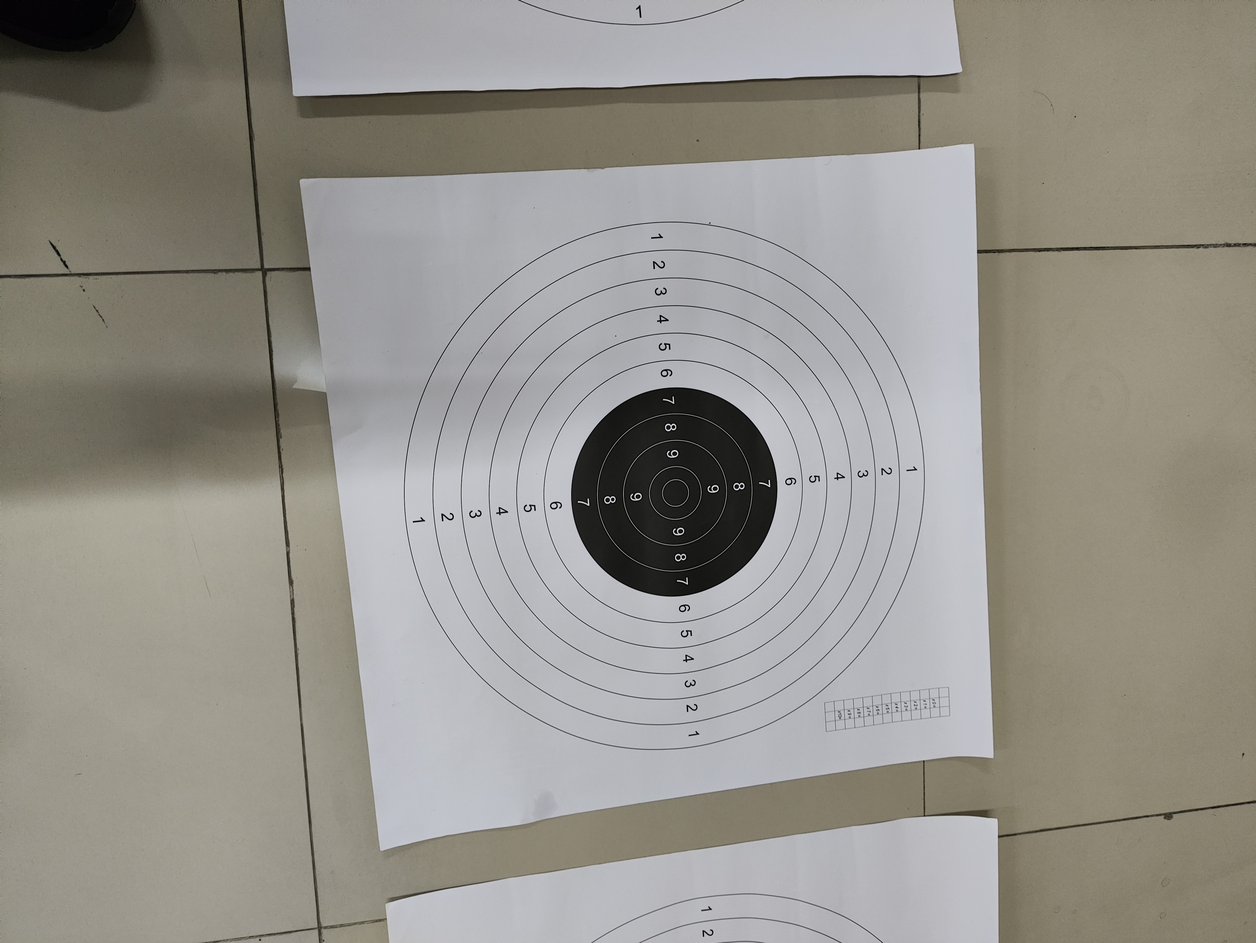target: (388, 204, 953, 766)
